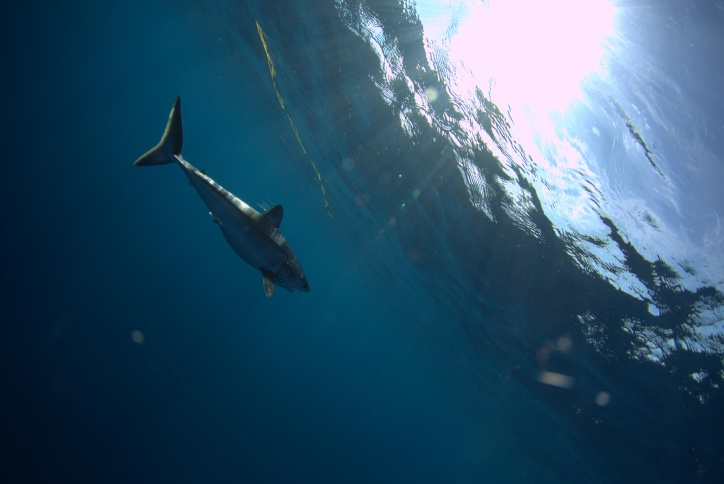Mako: (123, 77, 328, 320)
